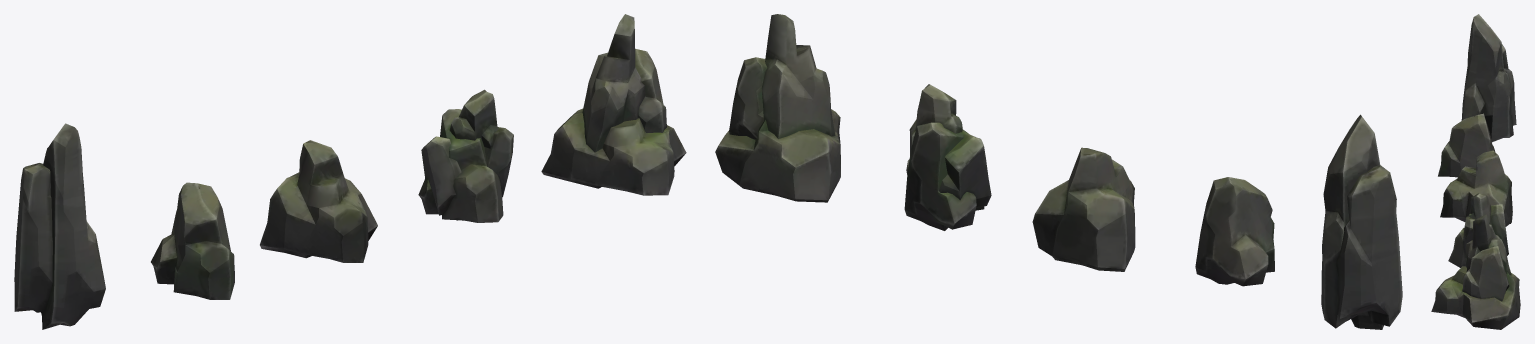
File: rocks.glb
3 renders of one model, left to right at view 1: azimuth 30°, elevation 25°; view 2: azimuth 150°, elevation 25°; view 3: azimuth 270°, elevation 25°, orthographic. The views are drawn at different scales.
Parts seen in each view (by area): view 1: Rock_4; view 2: Rock_4; view 3: Rock_4.
Part boxes in pixels (bbox=[...]): Rock_4: bbox=[14, 14, 686, 329]; Rock_4: bbox=[715, 14, 1402, 329]; Rock_4: bbox=[1431, 14, 1520, 329].
Bounding box in the file's own units: 3.38 × 1 × 0.612.
Materials: 1 (1 with a texture image).
